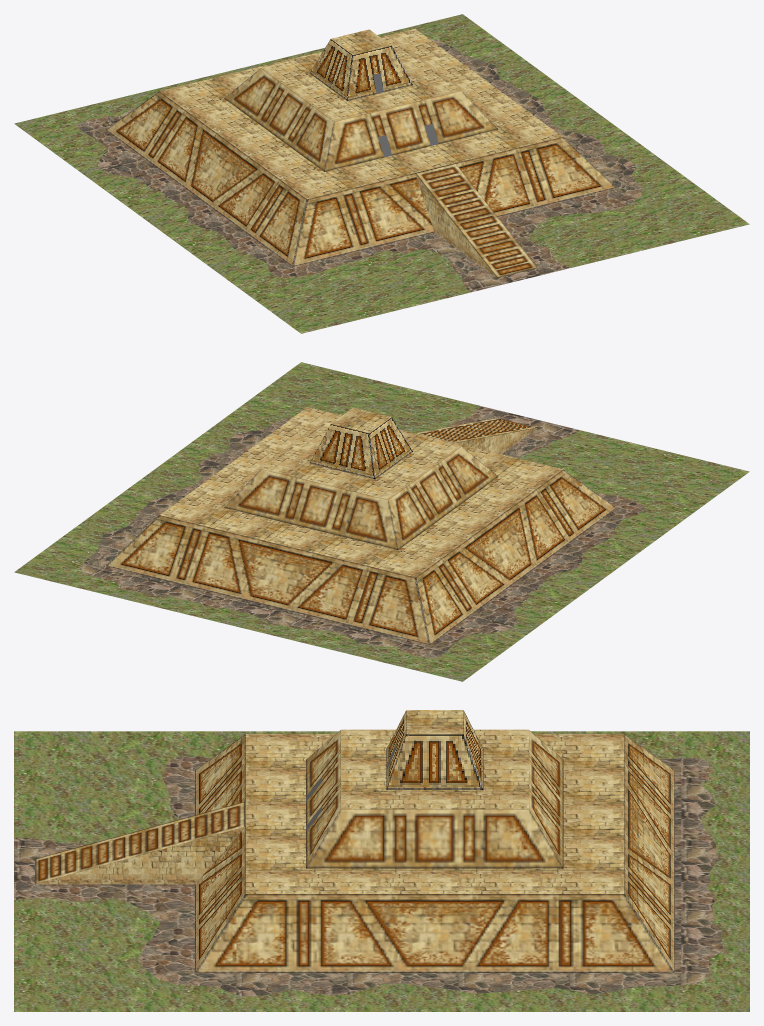
3 renders of one model, top to bottom at view 1: azimuth 30°, elevation 25°; view 2: azimuth 150°, elevation 25°; view 3: azimuth 270°, elevation 25°, orthographic. The views are drawn at different scales.
Visible parts, largest first — view 1: material6, material1, material0, material5, material2, material4, material3, material7; view 2: material6, material1, material0, material5, material2, material3, material4; view 3: material6, material1, material0, material5, material2, material3, material4.
Boxes of the visible parts, left/top/right/bottom form: material6: left=14, top=14, right=749, bottom=333; material1: left=106, top=91, right=616, bottom=266; material0: left=159, top=28, right=562, bottom=277; material5: left=76, top=40, right=642, bottom=292; material2: left=224, top=68, right=497, bottom=171; material4: left=415, top=163, right=537, bottom=277; material3: left=309, top=39, right=412, bottom=100; material7: left=373, top=73, right=438, bottom=157; material6: left=14, top=362, right=749, bottom=681; material1: left=106, top=469, right=616, bottom=644; material0: left=160, top=407, right=562, bottom=577; material5: left=79, top=406, right=645, bottom=658; material2: left=224, top=446, right=498, bottom=549; material3: left=310, top=417, right=412, bottom=479; material4: left=416, top=418, right=537, bottom=442; material6: left=14, top=731, right=749, bottom=1011; material1: left=195, top=734, right=674, bottom=972; material0: left=35, top=710, right=624, bottom=893; material5: left=14, top=756, right=722, bottom=996; material2: left=306, top=730, right=563, bottom=868; material3: left=386, top=710, right=483, bottom=789; material4: left=35, top=801, right=245, bottom=883.
Bounding box in the file's own units: 8.38 × 2.08 × 9.29.
Materials: 9 (7 with a texture image).
